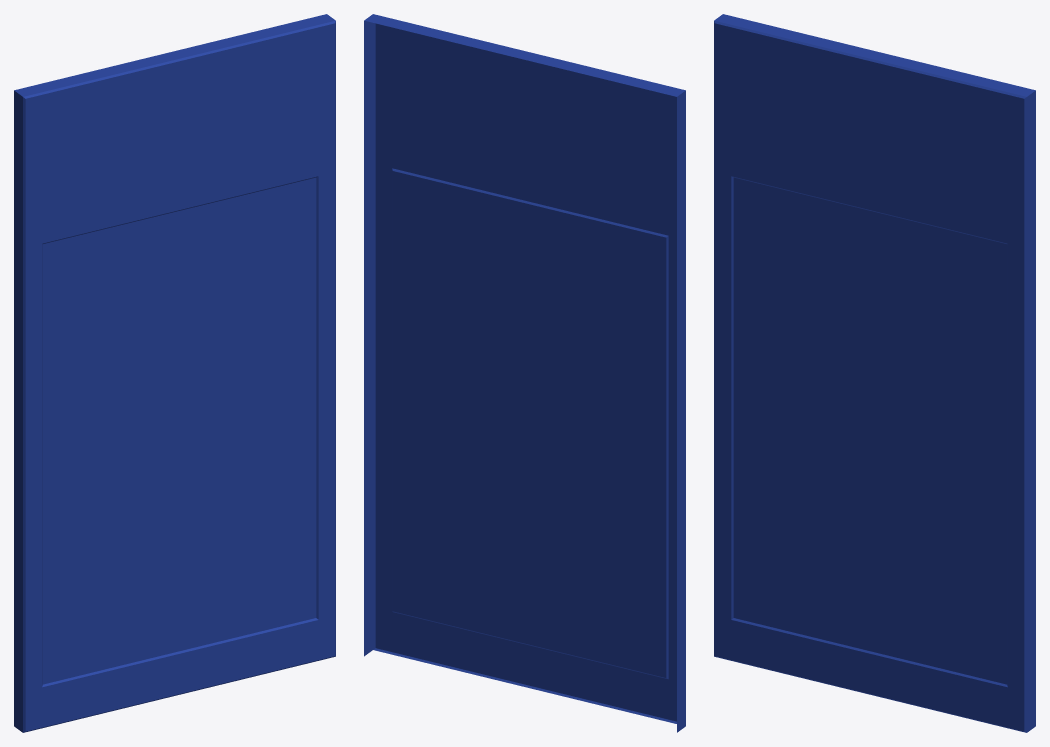
File: FacadeFrame02_8.FBX
3 views of the same model, side by side, from view 1: azimuth 30°, elevation 25°; view 2: azimuth 150°, elevation 25°; view 3: azimuth 330°, elevation 25° (orthographic).
Parts seen in each view (by area): view 1: FacadeFrame02_8; view 2: FacadeFrame02_8; view 3: FacadeFrame02_8.
Part boxes in pixels (bbox=[...]): FacadeFrame02_8: bbox=[14, 14, 335, 732]; FacadeFrame02_8: bbox=[364, 14, 685, 732]; FacadeFrame02_8: bbox=[714, 14, 1035, 732].
Bounding box in the file's own units: 200 × 388 × 11.
